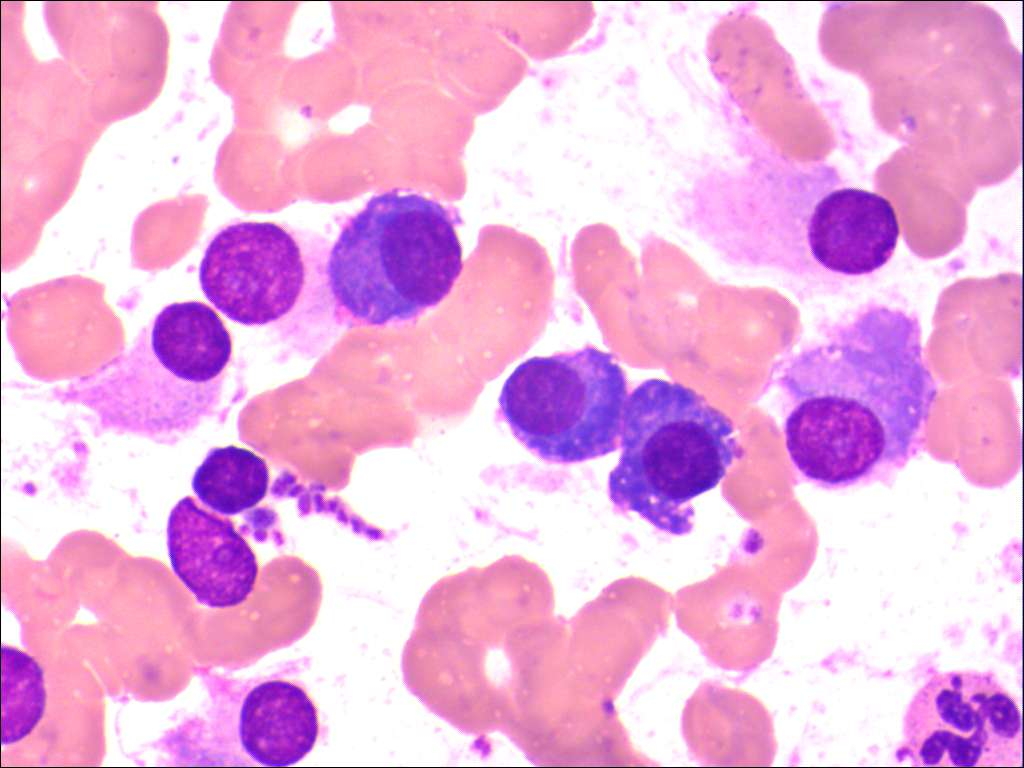51: (763, 300, 940, 495), (602, 376, 748, 540), (325, 186, 466, 331), (490, 343, 632, 474)
6: (890, 665, 1024, 767)
x: (669, 153, 902, 288), (47, 295, 250, 445), (198, 215, 355, 367), (135, 651, 331, 768), (164, 494, 260, 613), (189, 443, 274, 518), (1, 639, 50, 751)
